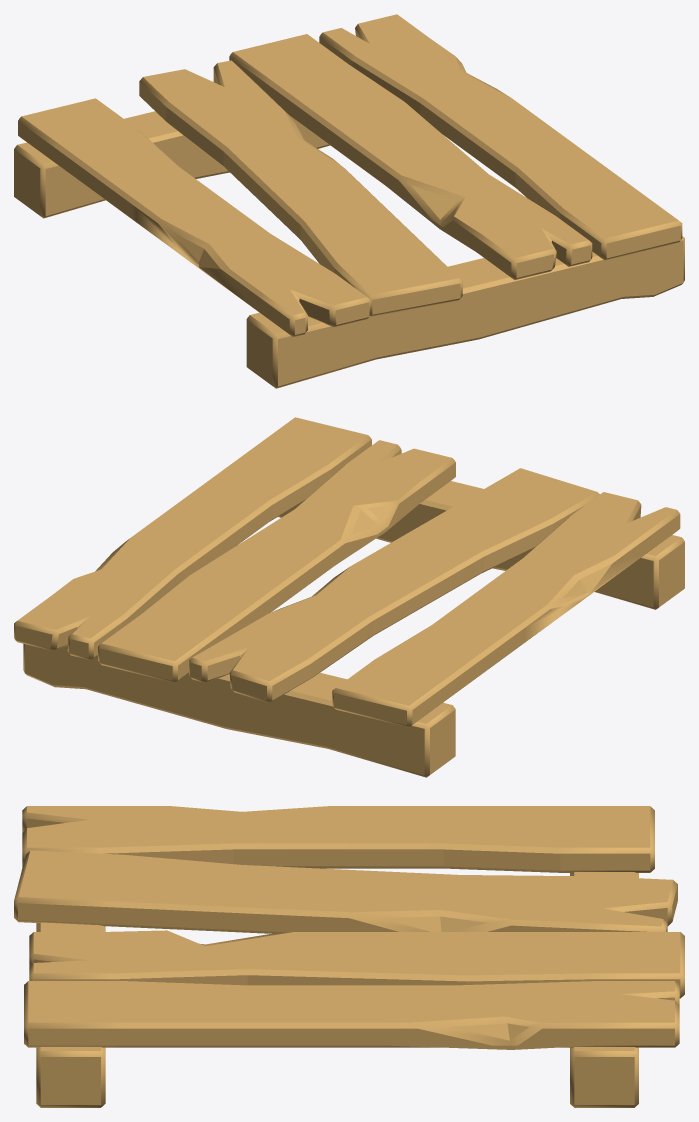
Rendered from bridge1.fbx.
3 views of the same model, one above another, from view 1: azimuth 30°, elevation 25°; view 2: azimuth 150°, elevation 25°; view 3: azimuth 270°, elevation 25° (orthographic). The views are drawn at different scales.
Parts seen in each view (by area): view 1: Cube.543; view 2: Cube.543; view 3: Cube.543.
Boxes of the visible parts, x1=… form: Cube.543: x1=14, y1=14, x2=684, y2=388; Cube.543: x1=14, y1=417, x2=684, y2=777; Cube.543: x1=14, y1=806, x2=684, y2=1107.
Bounding box in the file's own units: 52.03 × 9.1 × 63.92.
